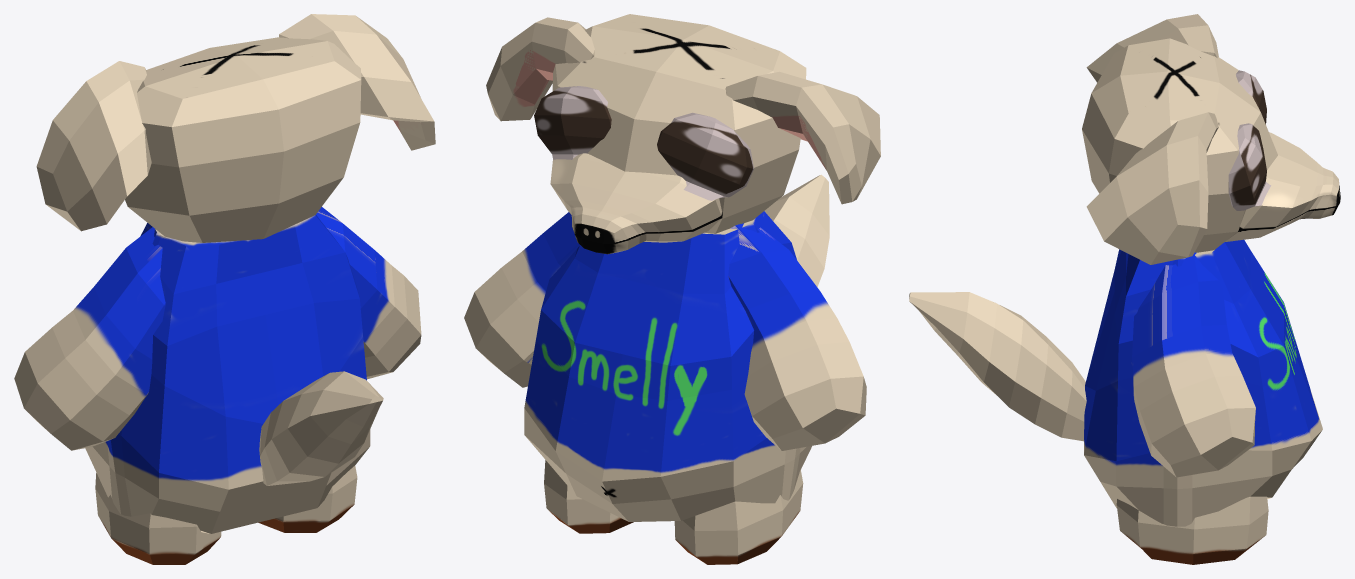
The picture shows the model from 3 angles, left to right: view 1: azimuth 30°, elevation 25°; view 2: azimuth 150°, elevation 25°; view 3: azimuth 270°, elevation 25°; orthographic projection. The views are drawn at different scales.
Visible parts, largest first — view 1: BODY, HEAD, ARMS, ears, tAIL, FEET; view 2: BODY, ARMS, HEAD, ears, SNOOT, Eyes, FEET, tAIL; view 3: BODY, ARMS, HEAD, ears, tAIL, FEET, SNOOT, Eyes.
Part boxes in pixels (bbox=[...]): BODY: bbox=[85, 215, 370, 533]; HEAD: bbox=[125, 37, 361, 242]; ARMS: bbox=[14, 207, 421, 450]; ears: bbox=[36, 14, 435, 231]; tAIL: bbox=[259, 371, 383, 485]; FEET: bbox=[95, 465, 357, 564]; BODY: bbox=[524, 211, 811, 521]; ARMS: bbox=[464, 212, 866, 450]; HEAD: bbox=[552, 14, 806, 233]; ears: bbox=[486, 17, 880, 204]; SNOOT: bbox=[550, 153, 722, 254]; Eyes: bbox=[534, 86, 753, 200]; FEET: bbox=[544, 460, 803, 564]; tAIL: bbox=[764, 174, 829, 286]; BODY: bbox=[1084, 239, 1322, 526]; ARMS: bbox=[1131, 252, 1255, 477]; HEAD: bbox=[1082, 38, 1277, 252]; ears: bbox=[1086, 14, 1218, 264]; tAIL: bbox=[909, 292, 1086, 441]; FEET: bbox=[1116, 496, 1268, 564]; SNOOT: bbox=[1224, 132, 1340, 242]; Eyes: bbox=[1228, 70, 1271, 210].
Bounding box in the file's own units: 0.465 × 0.5612 × 0.4787.
Materials: 8 (8 with a texture image).
